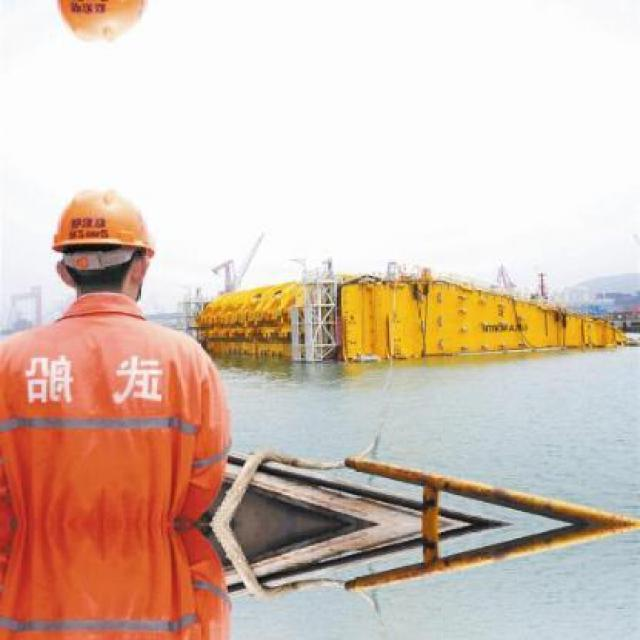Reflective-Jacket: (4, 299, 236, 529)
Safety-Helmet: (38, 176, 171, 276)
